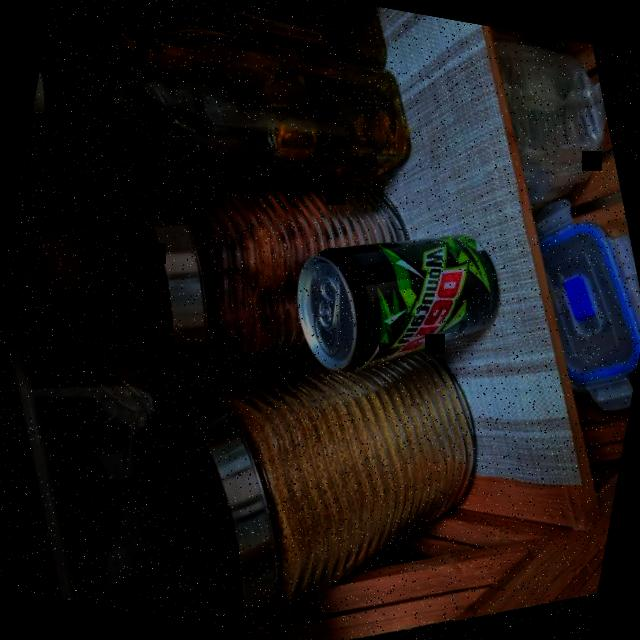can: (277, 200, 516, 402)
